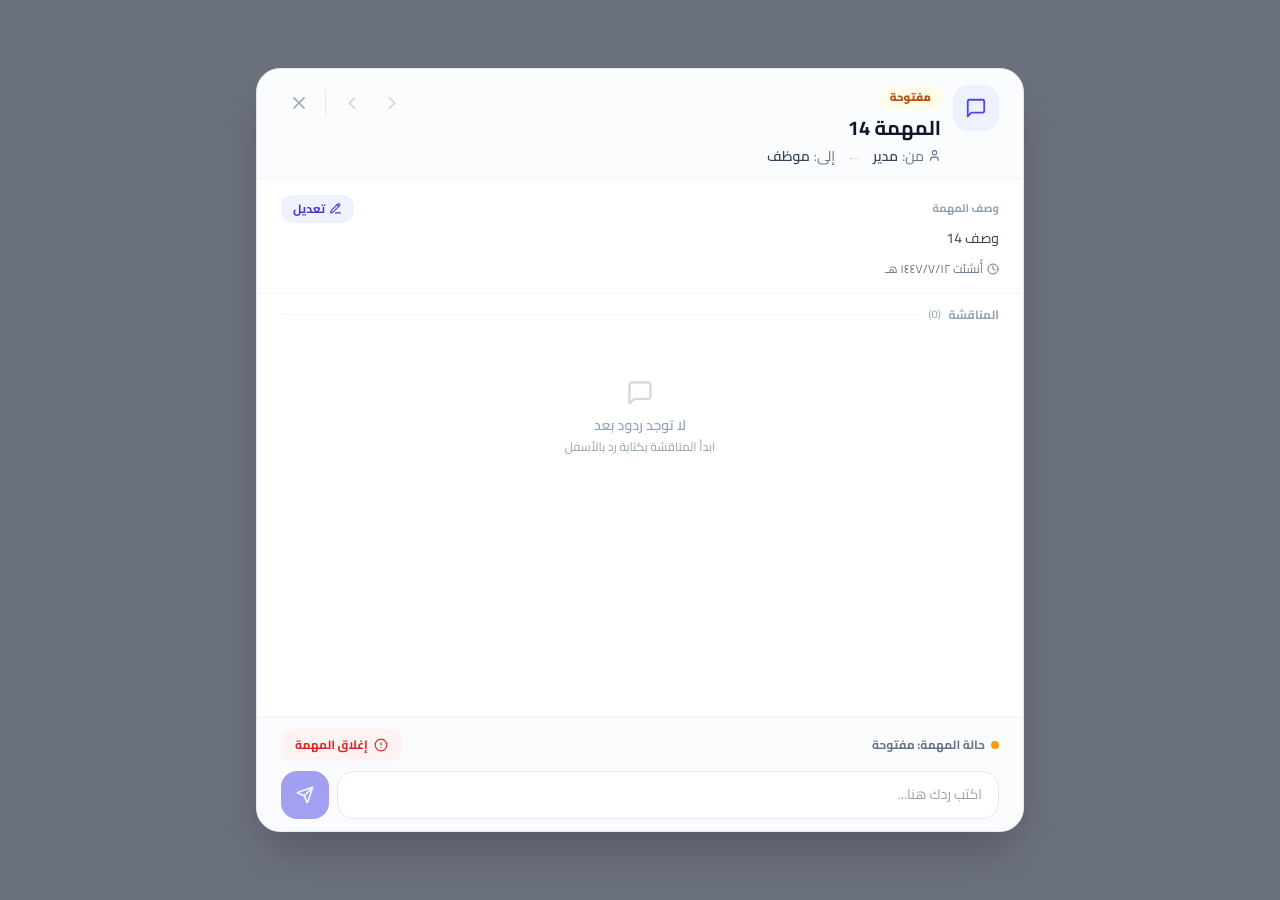
Test: TaskDetailsModal — editing an open task › client validation: a too-short title is shown and nothing is sent
Expected: the text box labelled "اكتب ردك" is enabled, [337,771,999,819]
Click the button "تعديل".
click(318, 209)  # box [281,195,354,223]
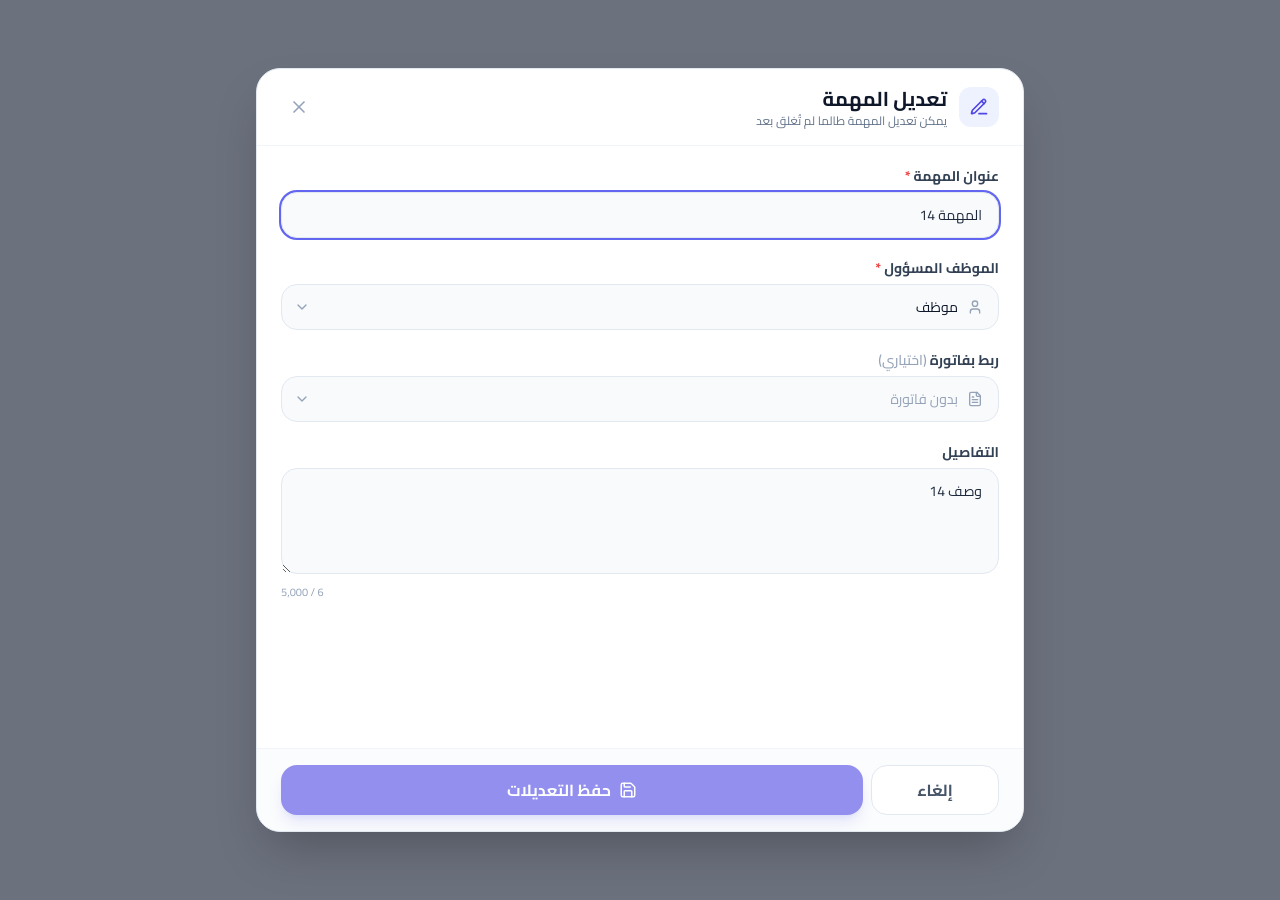
Replace the text in the field labelled "عنوان المهمة *" with "اب" at x=640, y=215, box [281,192,999,238]
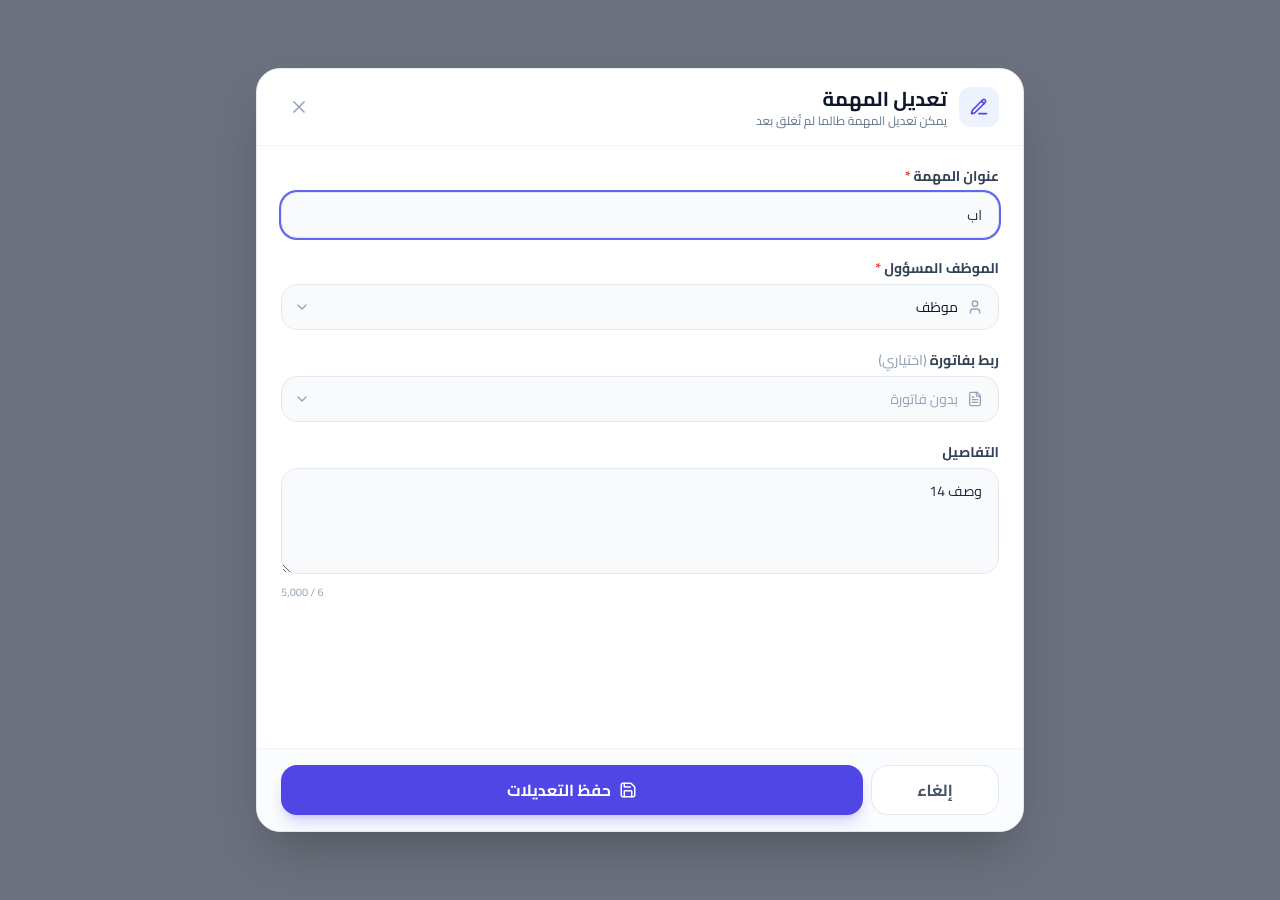
Click the button "حفظ التعديلات".
click(572, 790)  # box [281,765,863,815]
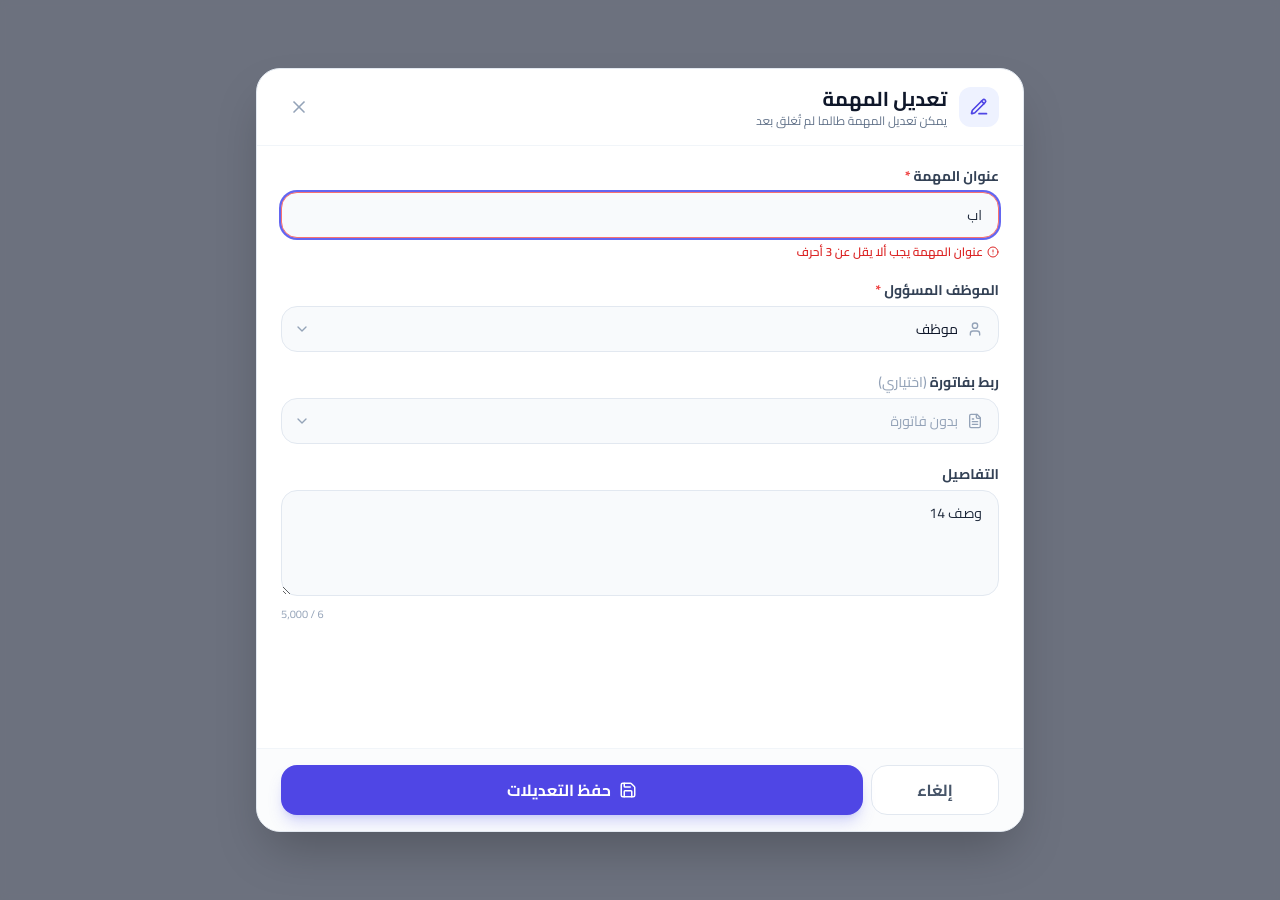
Result: the text "عنوان المهمة يجب ألا يقل عن 3 أحرف" is shown at [796,240,999,263]
